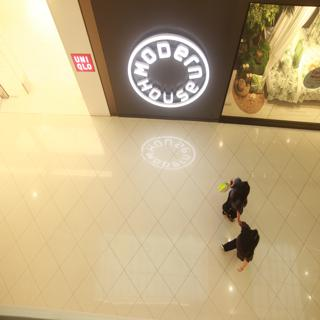person: (221, 221, 260, 273), (223, 160, 247, 223)
